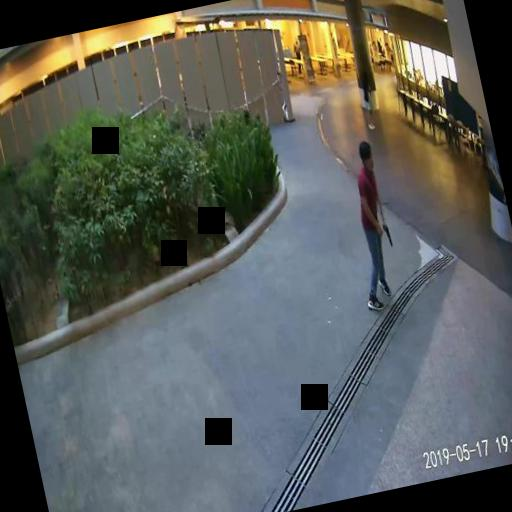Handgun: (380, 222, 391, 245)
